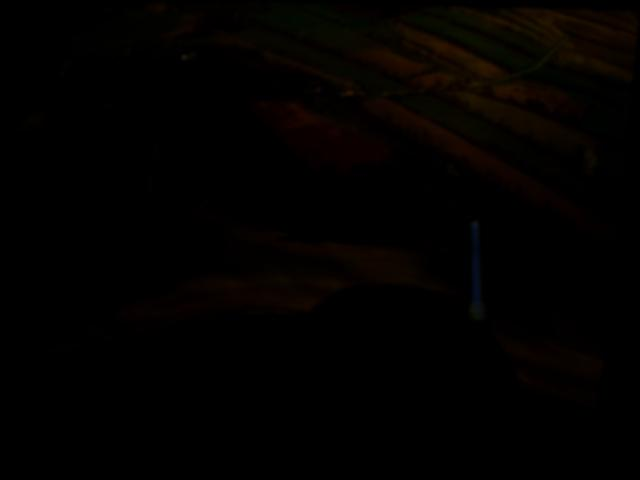iha: (283, 230, 326, 243)
